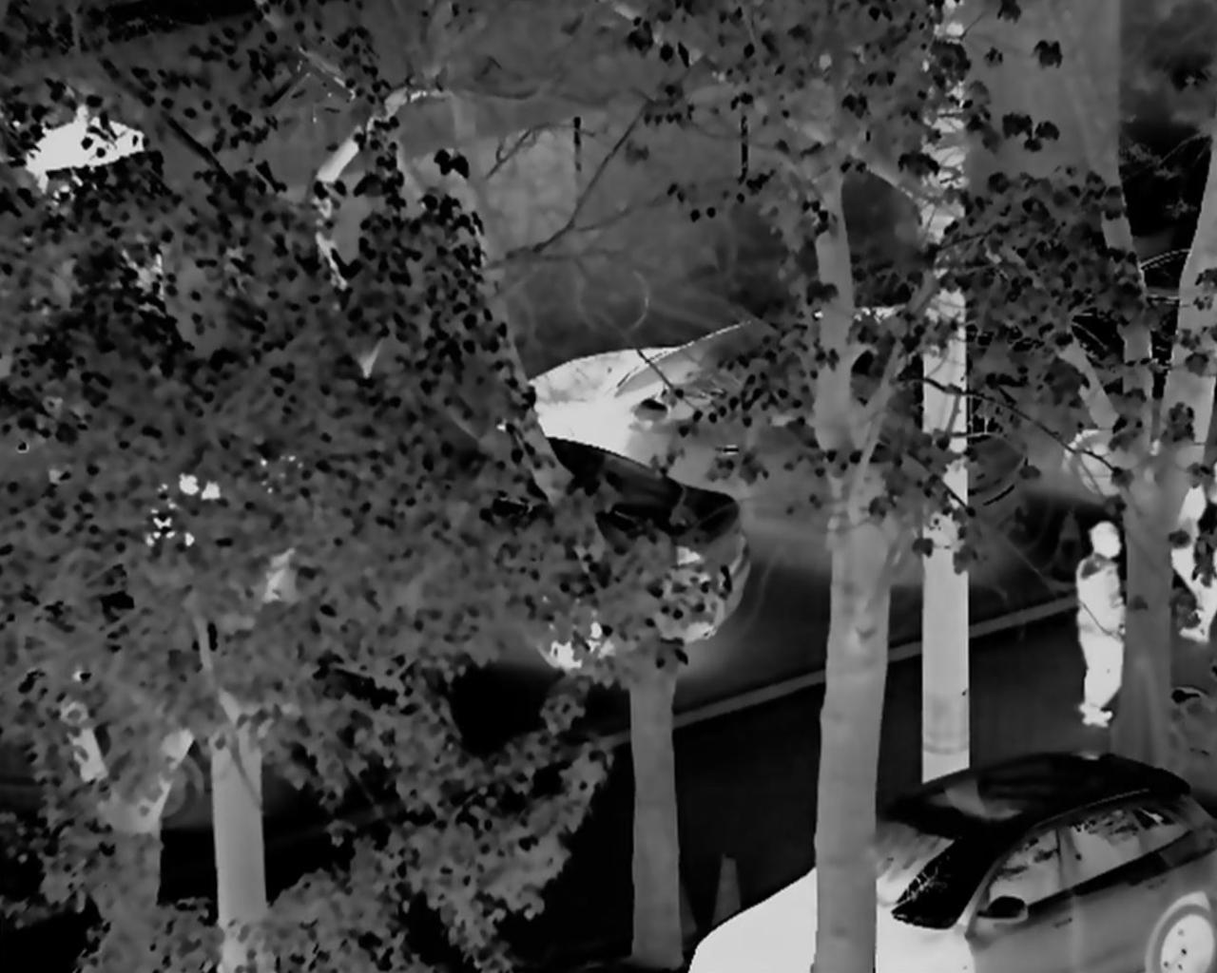person: (1062, 515, 1134, 738), (1166, 466, 1214, 649)
